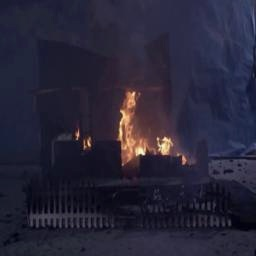fire: (112, 86, 179, 164)
